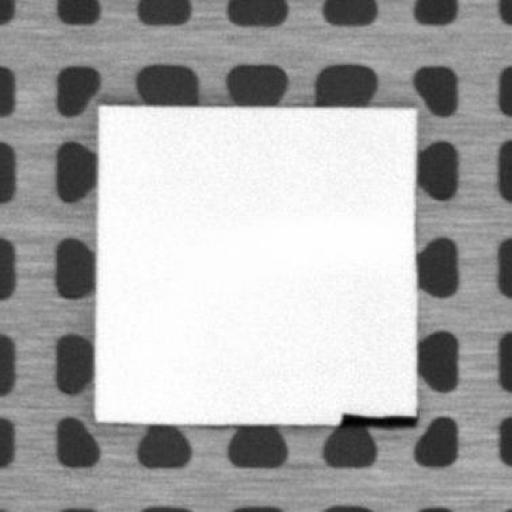DIE_BROKEN: (336, 409, 417, 427)
